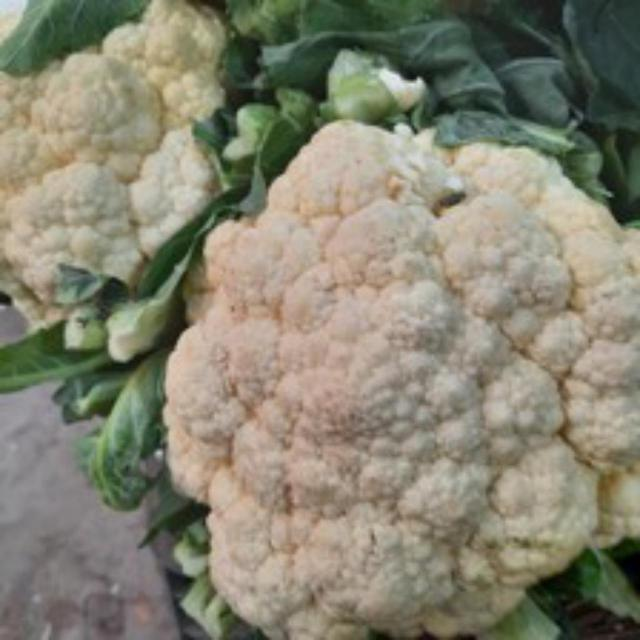cauliflower: (137, 111, 637, 637)
